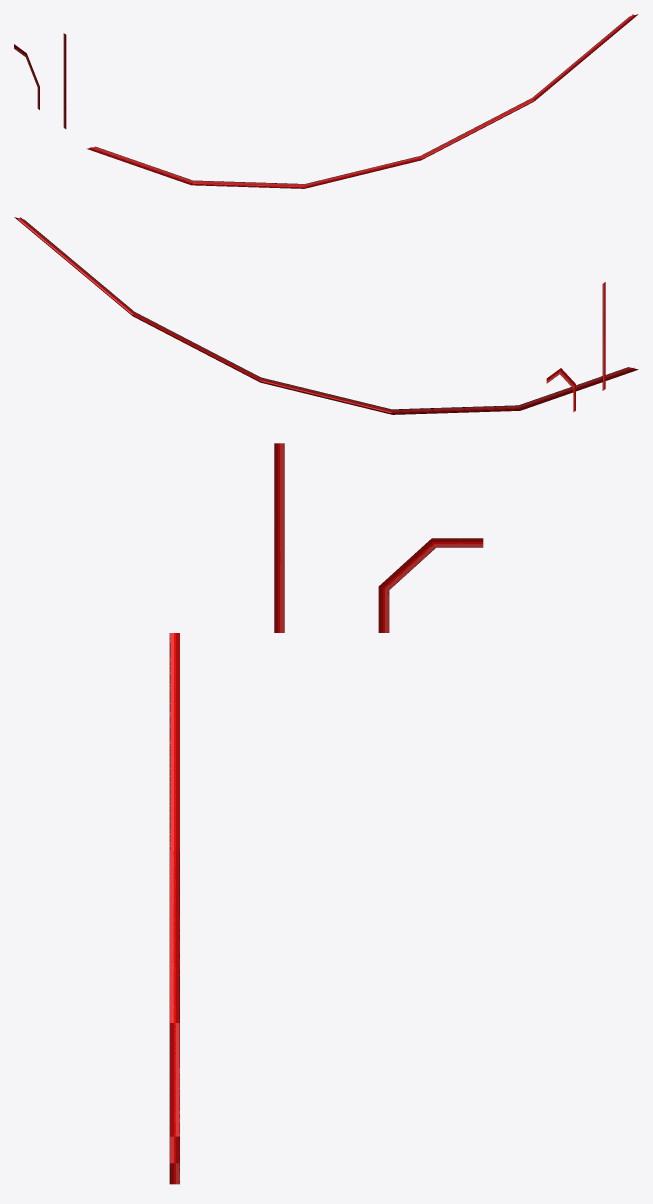
File: retro_wires.glb
3 renders of one model, top to bottom at view 1: azimuth 30°, elevation 25°; view 2: azimuth 150°, elevation 25°; view 3: azimuth 270°, elevation 25°, orthographic. The views are drawn at different scales.
Parts seen in each view (by area): view 1: instance_0, instance_2; view 2: instance_0, instance_2; view 3: instance_0, instance_2, instance_3.
Part boxes in pixels (bbox=[...]): instance_0: bbox=[87, 14, 638, 188]; instance_2: bbox=[63, 33, 66, 128]; instance_0: bbox=[14, 217, 638, 414]; instance_2: bbox=[602, 282, 605, 390]; instance_0: bbox=[169, 633, 179, 1184]; instance_2: bbox=[274, 443, 284, 632]; instance_3: bbox=[378, 538, 483, 632].
Size of the model in its own units: 3.05 by 0.9918 by 0.75.
Materials: 2 (2 with a texture image).
